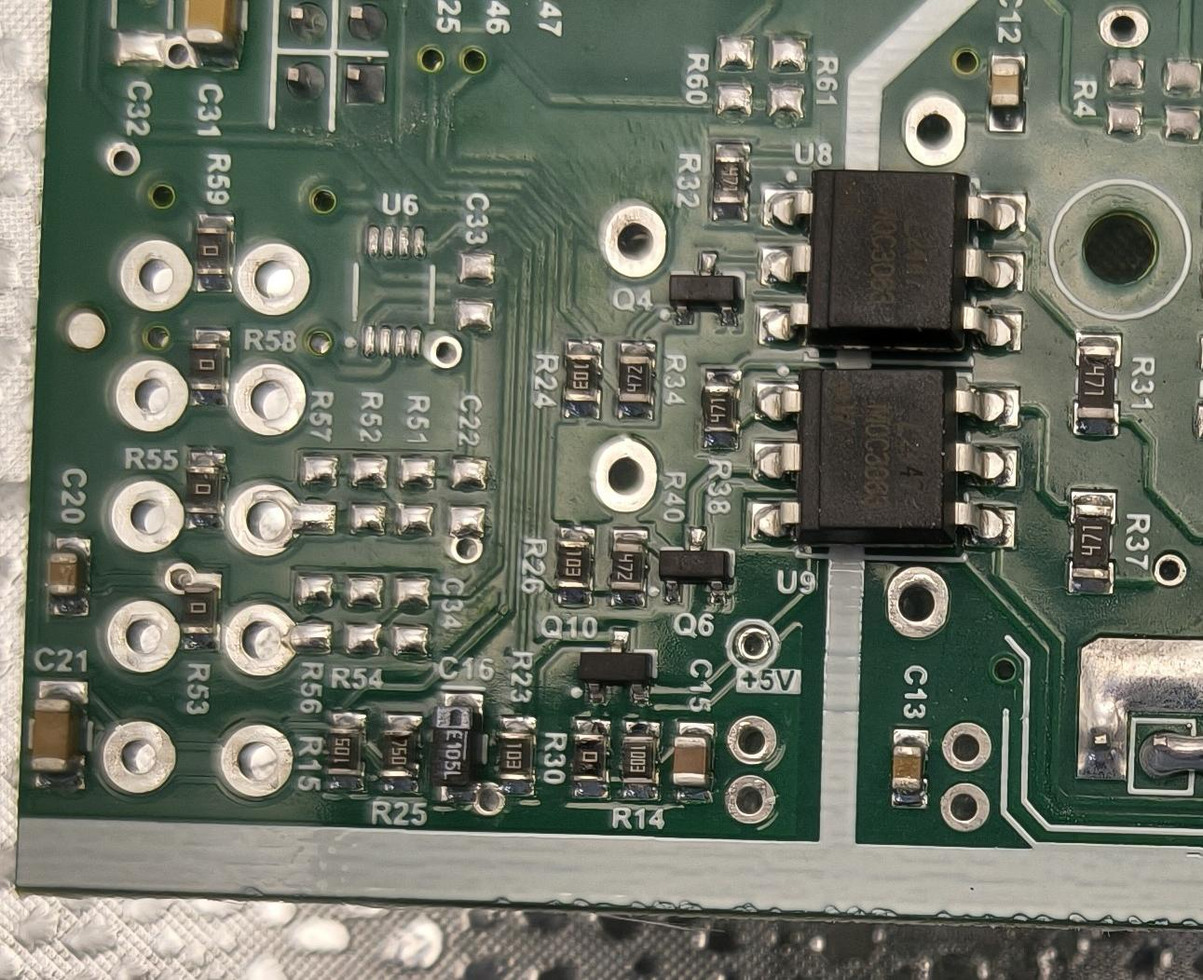C+: (19, 672, 95, 798), (48, 531, 94, 622), (671, 716, 715, 802), (885, 723, 927, 807), (991, 48, 1029, 135)
R+: (1063, 489, 1120, 602), (1069, 332, 1122, 437), (704, 361, 752, 457), (553, 520, 603, 607), (570, 717, 616, 806), (559, 338, 605, 425), (190, 209, 237, 291), (620, 723, 668, 803), (618, 334, 662, 421), (182, 444, 225, 531), (329, 708, 370, 795), (188, 319, 228, 408), (707, 146, 752, 224), (176, 572, 219, 652), (605, 526, 646, 607), (381, 709, 421, 788), (498, 711, 535, 796)
R/CFaltante: (711, 24, 760, 123), (1104, 54, 1151, 147), (449, 243, 499, 330), (295, 448, 343, 535), (290, 562, 333, 657), (1160, 54, 1203, 145), (349, 572, 393, 657), (444, 456, 488, 536), (766, 31, 806, 115), (393, 579, 432, 665), (349, 453, 390, 530), (400, 458, 437, 535)
Soldagem+: (341, 60, 397, 111), (279, 60, 323, 106), (346, 3, 390, 47), (284, 4, 326, 47)
U+: (751, 367, 1022, 555), (760, 170, 1031, 357)
UFaltante: (342, 216, 444, 362)
